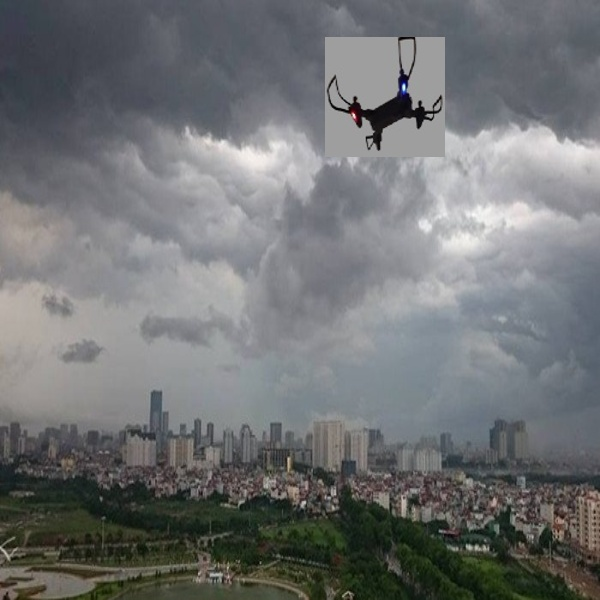drone: (329, 36, 445, 156)
